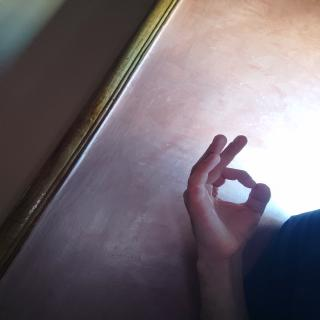Space: (169, 122, 272, 262), (140, 65, 143, 68)
